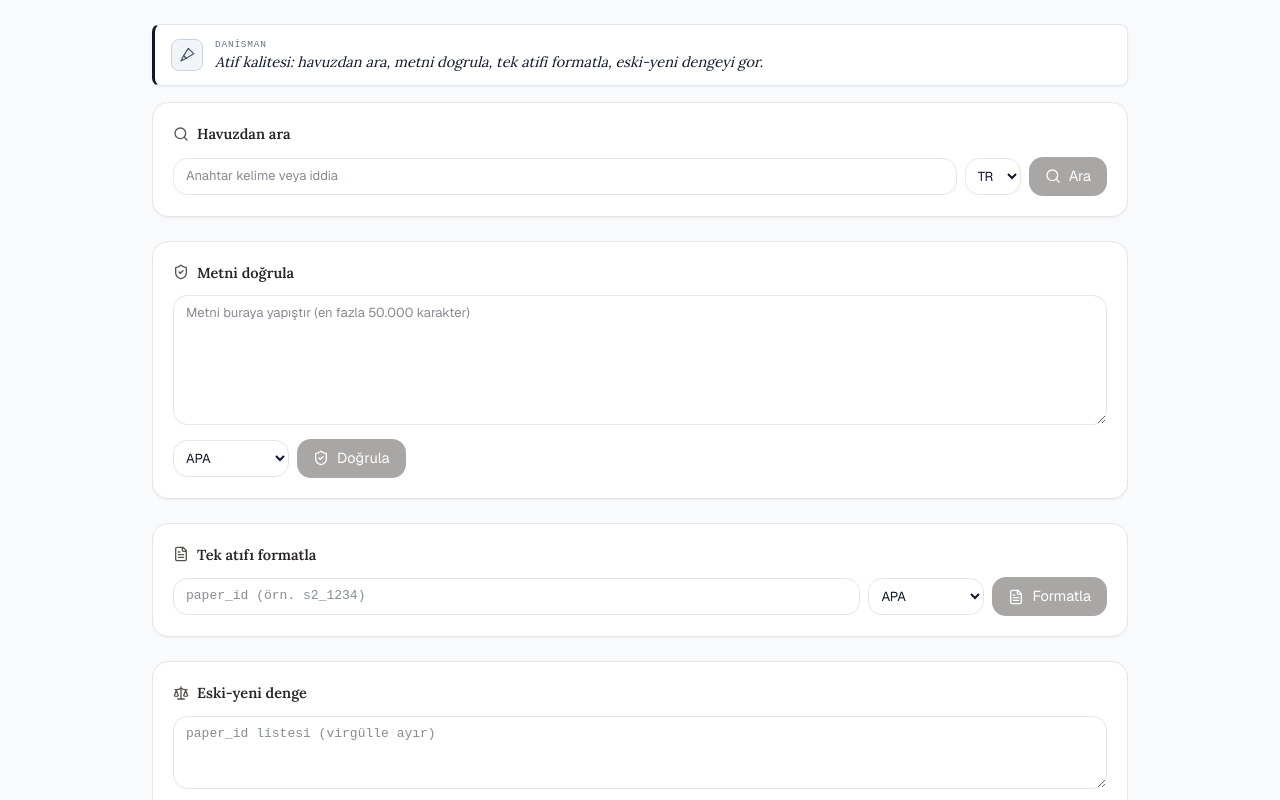
Test case: CitationQualityPage › Format → GET /format-citation + APA satiri + bibtex render
Step 1. Type "s2_1234" into the field with placeholder "paper_id (örn. s2_1234)" → (517, 597), box [173,578,860,615]
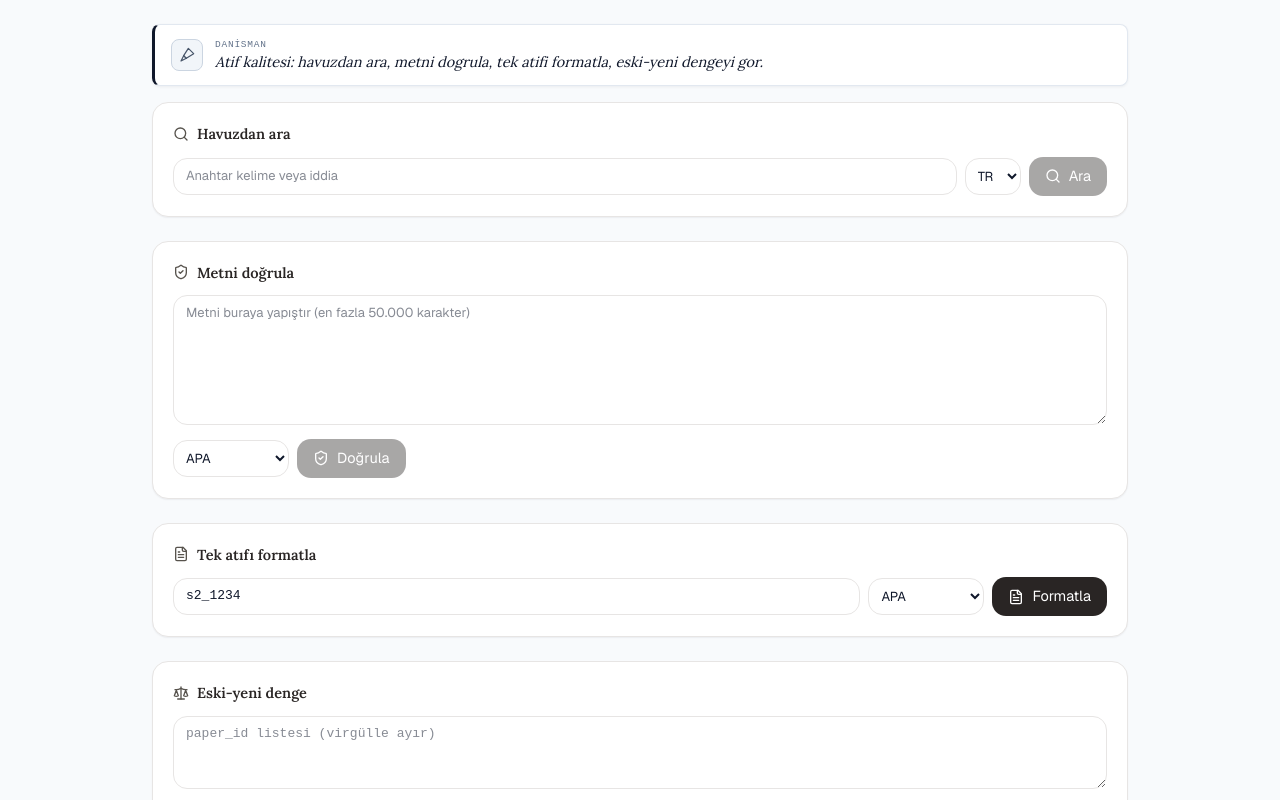
Step 2. Click the button "Formatla" → (1050, 597), box [992,577,1107,616]
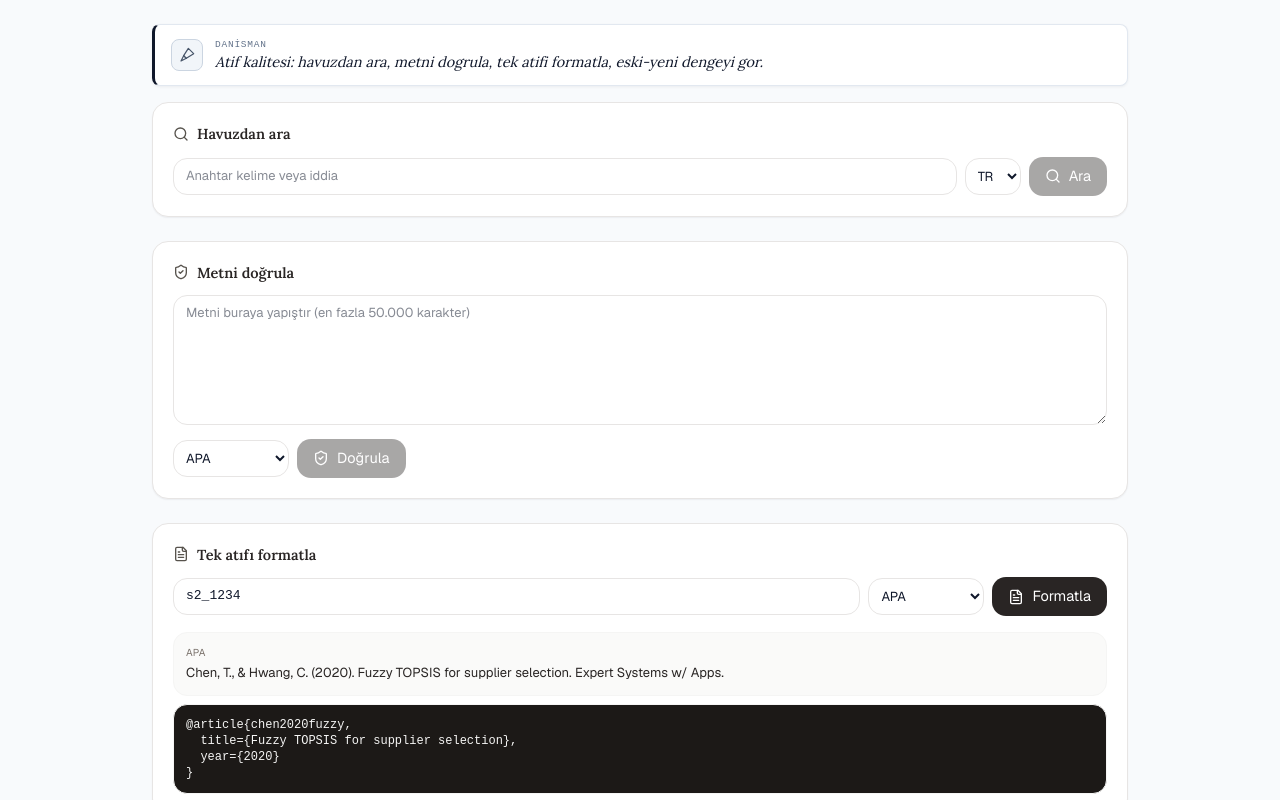
Expected: the text "Chen, T., & Hwang" is shown, [186,664,724,681]
Expected: the text "@article{chen2020fuzzy" is shown, [186,718,517,780]
